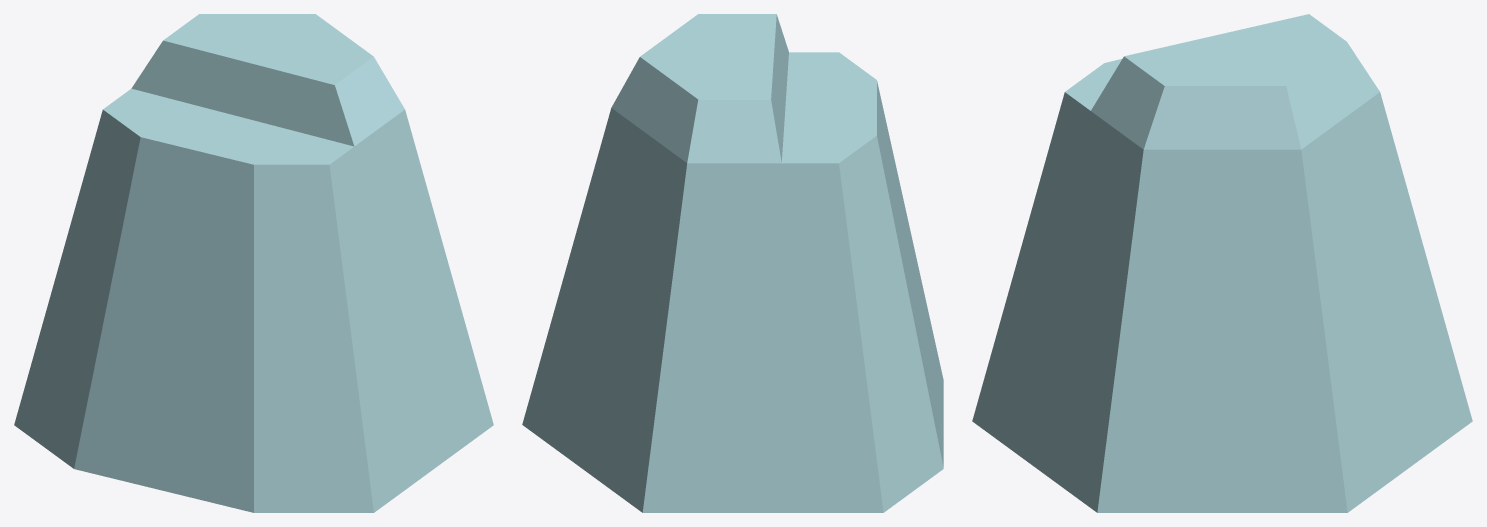
File: stone_tallE.dae
3 views of the same model, side by side, from view 1: azimuth 30°, elevation 25°; view 2: azimuth 150°, elevation 25°; view 3: azimuth 270°, elevation 25° (orthographic). The views are drawn at different scales.
Parts seen in each view (by area): view 1: stone_tallE; view 2: stone_tallE; view 3: stone_tallE.
Boxes of the visible parts, left/top/right/bottom form: stone_tallE: left=14, top=14, right=493, bottom=512; stone_tallE: left=522, top=14, right=943, bottom=512; stone_tallE: left=972, top=14, right=1472, bottom=512.
Size of the model in its own units: 0.4562 by 0.4438 by 0.5268.
